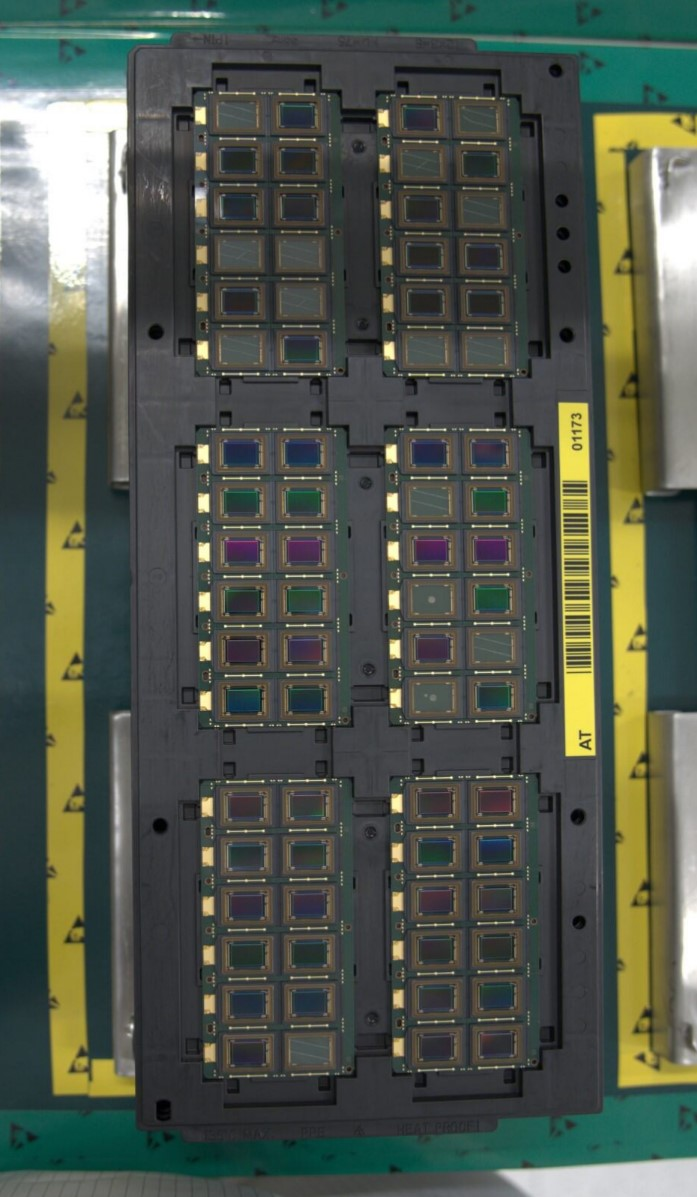Bad_mark_from_BMS_mold: (463, 624, 521, 669), (401, 479, 459, 522), (271, 280, 331, 321), (271, 232, 329, 274), (212, 328, 270, 370), (209, 93, 265, 136), (453, 188, 509, 231), (281, 1030, 338, 1072), (458, 329, 513, 371), (394, 142, 449, 183), (212, 231, 265, 273), (451, 99, 508, 138), (400, 328, 453, 369)
Bad_mark_from_Maker: (403, 578, 462, 621), (404, 676, 463, 718)
